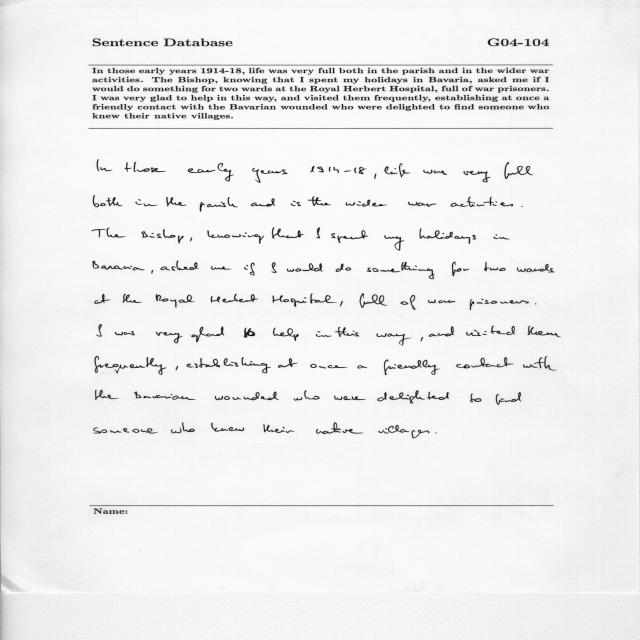word: (95, 356, 167, 375), (186, 357, 271, 373), (367, 262, 435, 279), (377, 390, 449, 404), (420, 228, 476, 244), (273, 293, 337, 307), (384, 360, 440, 375), (188, 163, 234, 181), (207, 230, 264, 244), (379, 425, 430, 438), (470, 299, 529, 310), (141, 229, 184, 244), (456, 357, 514, 368), (451, 197, 513, 207), (215, 392, 279, 401), (200, 197, 238, 212), (134, 391, 196, 400), (156, 294, 195, 308), (192, 327, 225, 343), (316, 423, 364, 434), (253, 168, 288, 183), (93, 261, 145, 271), (504, 162, 533, 179), (466, 326, 515, 336), (331, 230, 368, 243), (523, 357, 556, 371), (376, 333, 411, 346), (311, 166, 367, 174), (211, 294, 258, 303), (124, 162, 166, 172), (360, 293, 387, 308), (385, 163, 411, 178), (160, 261, 198, 271), (94, 428, 157, 434), (528, 326, 561, 337), (272, 228, 304, 239), (273, 328, 299, 341), (517, 264, 554, 273), (92, 228, 125, 238), (496, 392, 521, 405), (384, 235, 404, 251), (94, 196, 123, 207), (287, 263, 322, 272), (464, 171, 491, 182), (211, 423, 244, 432), (346, 200, 387, 207), (156, 332, 182, 343), (294, 390, 320, 401), (264, 424, 295, 433), (429, 326, 454, 337), (335, 327, 359, 337), (171, 423, 195, 433), (452, 262, 469, 276), (308, 196, 331, 206), (96, 390, 119, 400), (401, 295, 416, 310), (484, 262, 506, 271), (251, 199, 275, 207), (278, 358, 297, 368), (166, 197, 187, 206), (123, 294, 143, 303), (97, 160, 112, 171), (136, 199, 158, 206), (95, 294, 110, 304), (311, 364, 348, 368), (408, 202, 437, 207), (244, 263, 255, 276), (336, 263, 351, 272), (334, 396, 366, 400), (244, 327, 255, 338), (423, 170, 447, 175), (428, 300, 455, 304), (470, 394, 482, 403), (316, 331, 331, 337), (494, 235, 510, 240), (211, 266, 231, 270), (115, 331, 135, 335), (271, 262, 277, 273), (97, 324, 102, 337), (291, 201, 301, 206), (316, 228, 320, 239), (358, 365, 368, 369), (340, 301, 343, 306), (375, 174, 377, 179), (190, 238, 192, 242), (151, 270, 153, 274), (421, 337, 423, 341), (176, 366, 178, 370), (521, 206, 523, 207), (435, 433, 437, 434), (535, 304, 536, 305)
